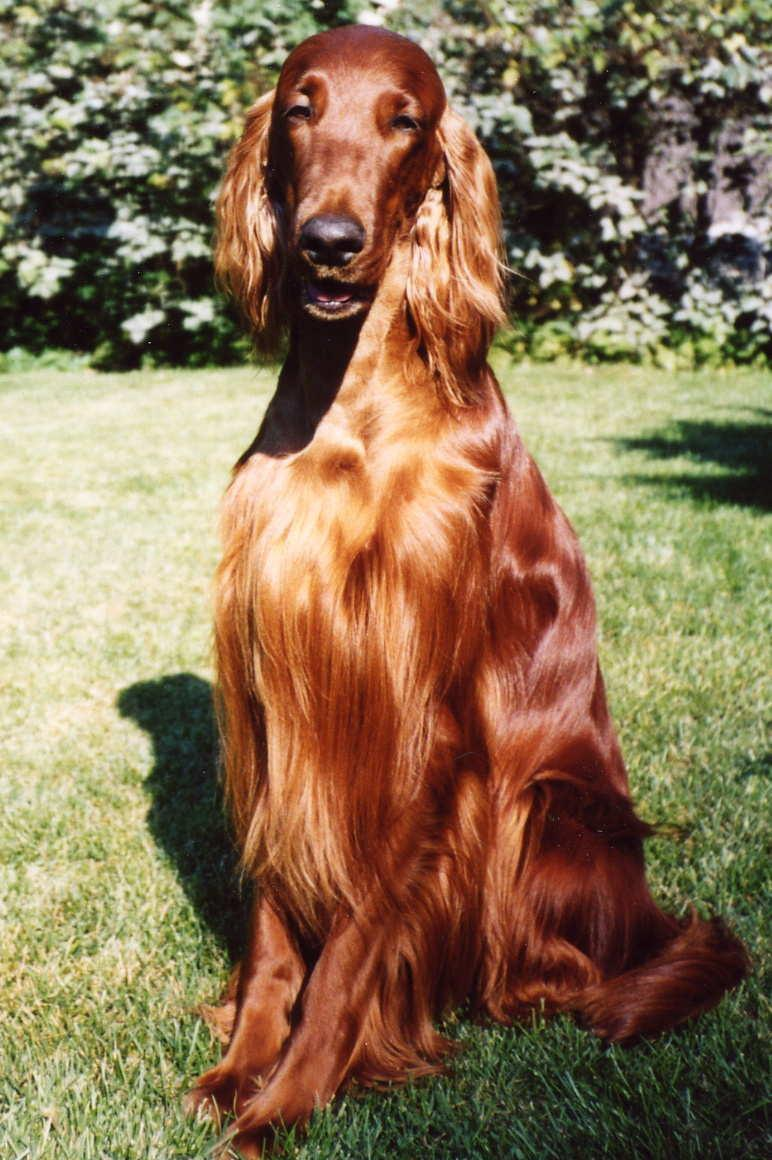Irish_setter: (188, 29, 745, 1154)
